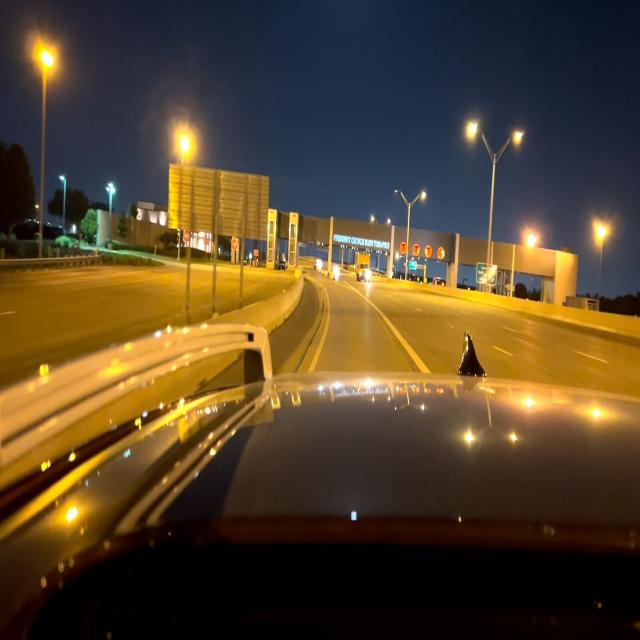back-of-sign: (170, 165, 269, 239)
